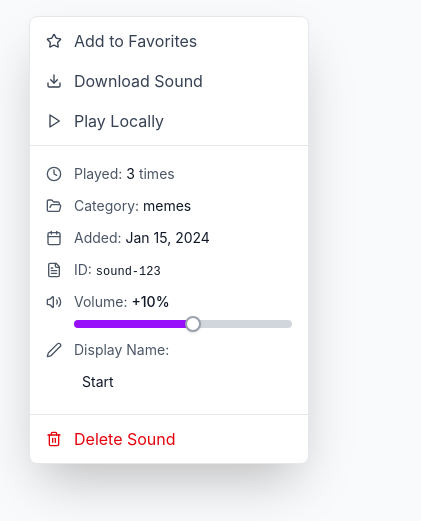
Scenario: ContextMenu - display name editing › shows error and reverts on failed save
The width and height of the screenshot is (421, 521).
Click the text "Start": (98, 382) [82,373,114,390]
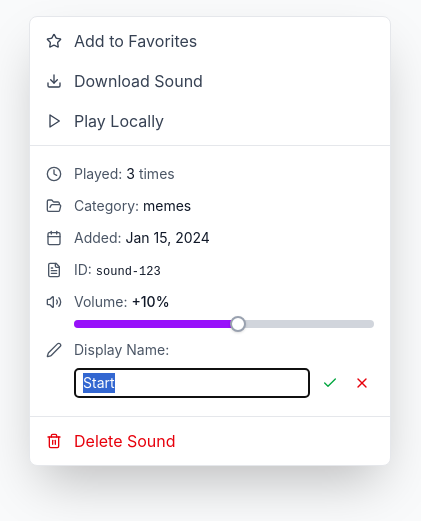
Replace the text in the field showing "Start" with "New Name": (192, 383) [74,368,310,398]
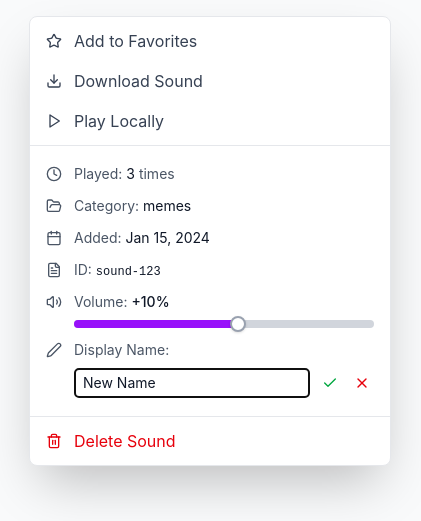
Press Enter in the field showing "Start", box [74,368,310,398]
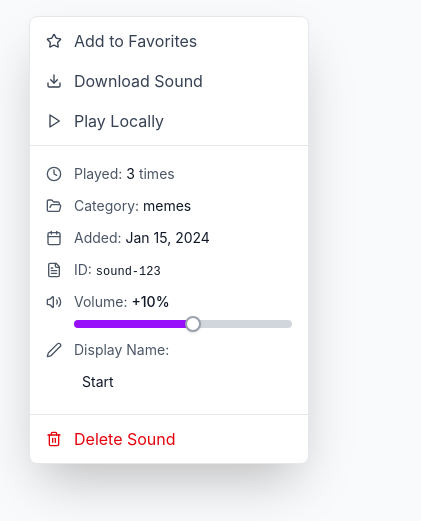
Now the text "Start" is shown, box [82,373,114,390]
